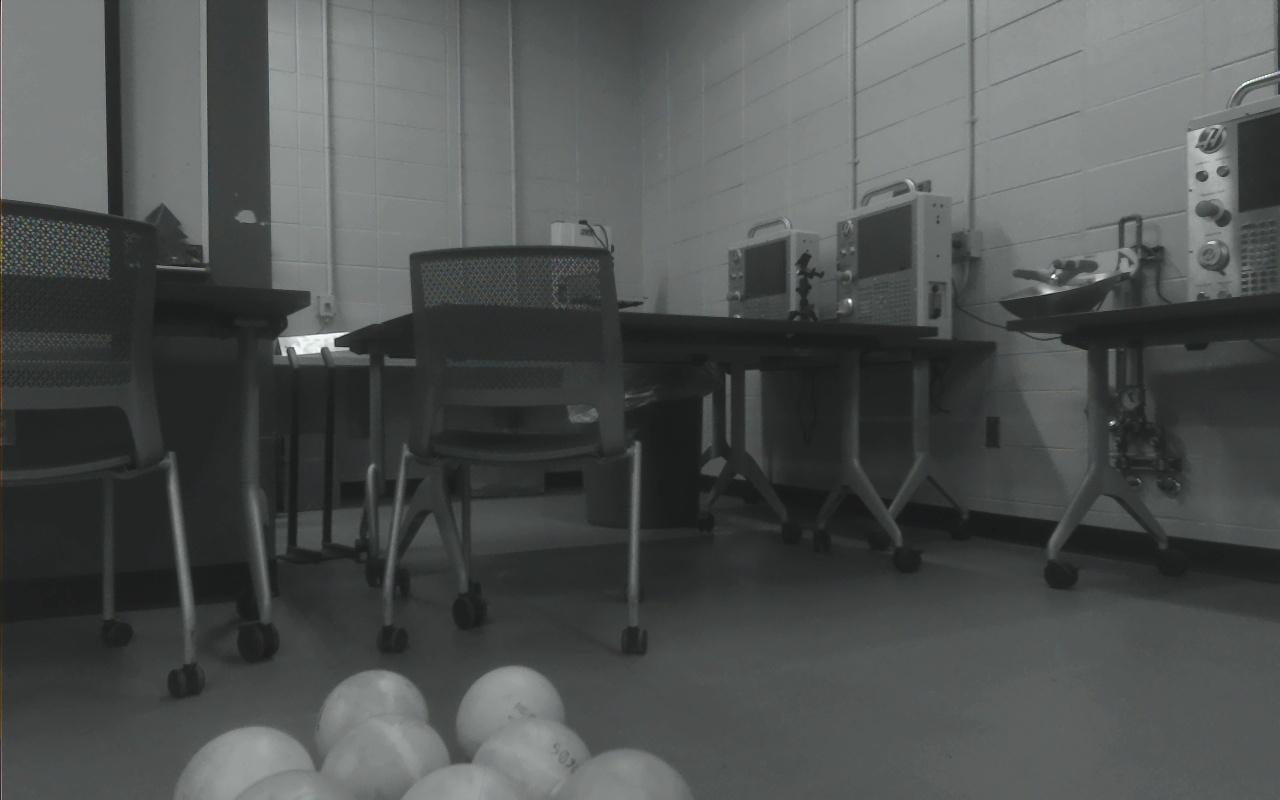Fuel: (319, 714, 451, 800), (315, 669, 430, 765), (454, 664, 567, 760), (174, 725, 317, 800), (471, 717, 593, 800), (556, 747, 694, 800), (402, 762, 531, 800), (230, 768, 360, 800)
